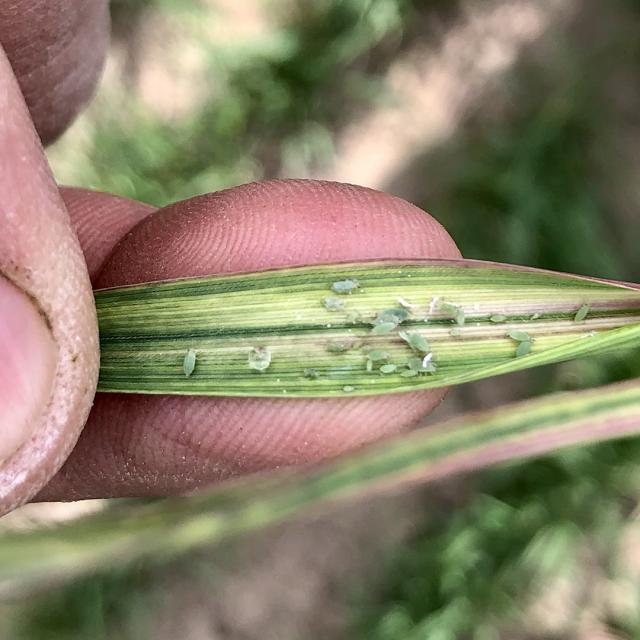Aphid-Grown-: (322, 272, 368, 297), (176, 341, 200, 380), (569, 301, 595, 326), (504, 325, 537, 344), (484, 306, 508, 327), (376, 360, 397, 375)
